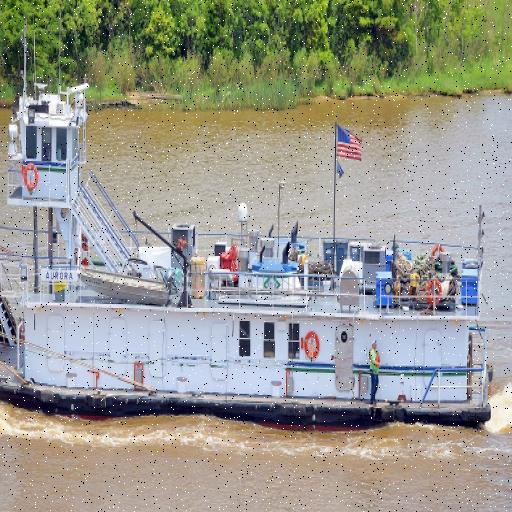tugboat: (1, 78, 496, 442)
